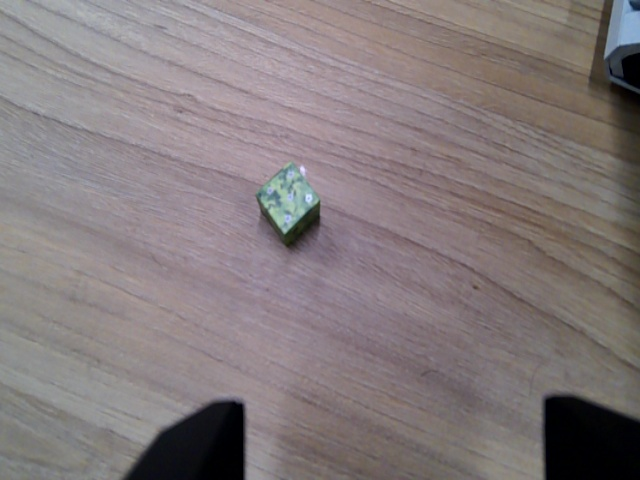grass: (251, 161, 321, 248)
